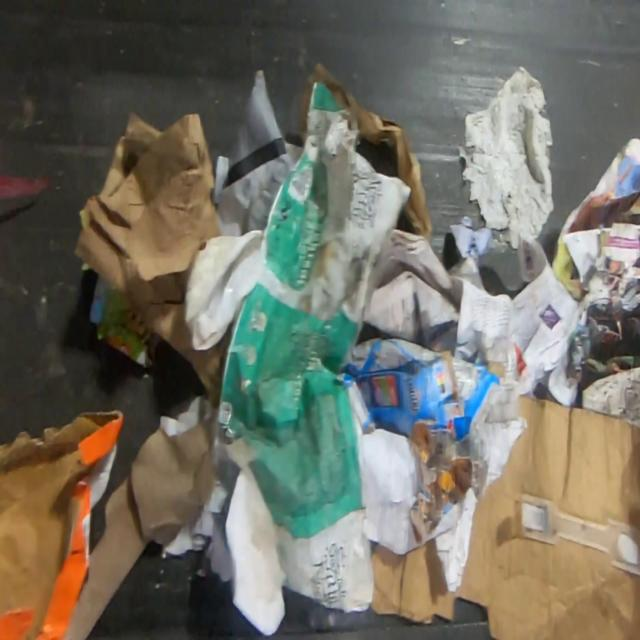cardboard: (372, 391, 640, 640), (0, 403, 216, 638), (73, 111, 222, 381), (338, 333, 504, 549), (298, 61, 434, 237), (88, 271, 167, 373)
